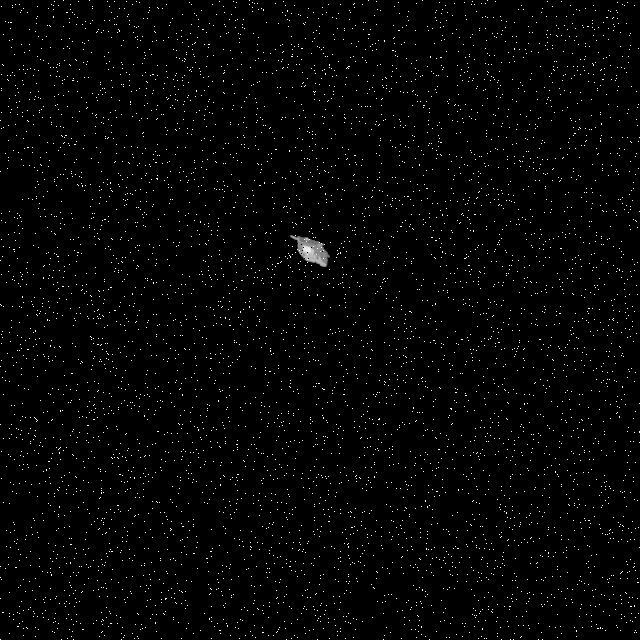medium_debris: (280, 234, 342, 282)
